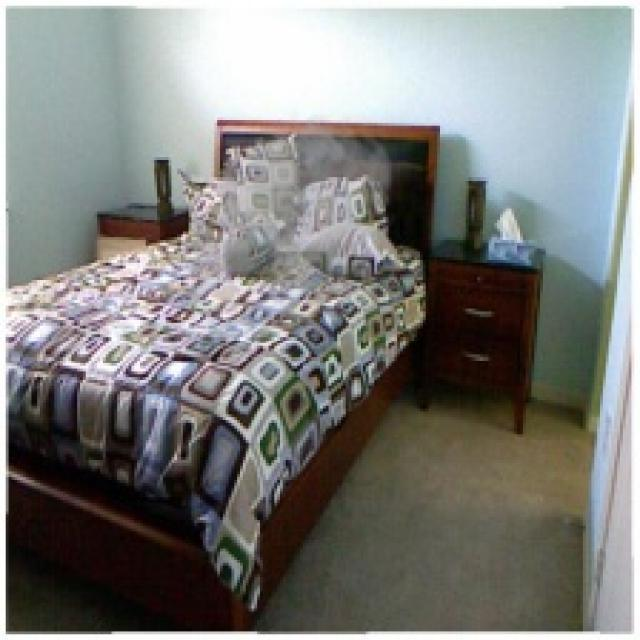Smoke: (174, 106, 400, 337)
